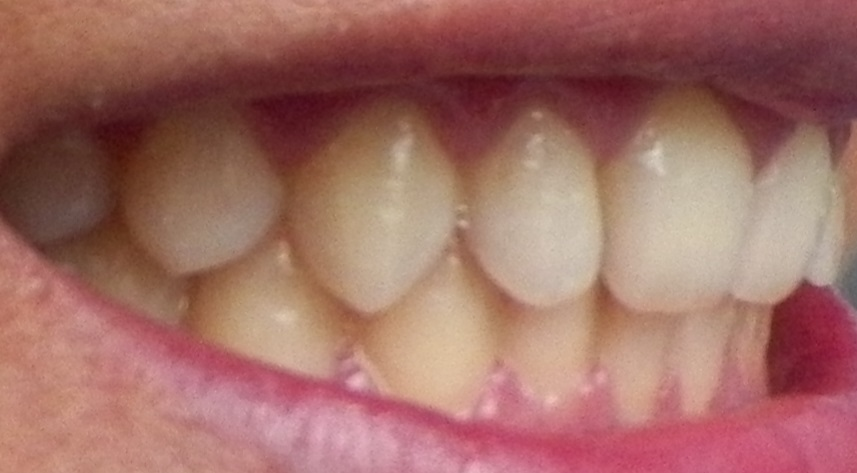boca: (39, 74, 842, 410)
